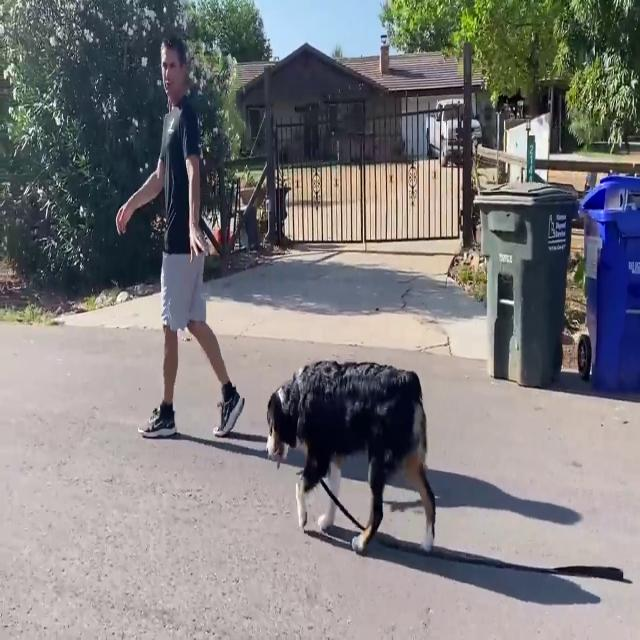Unleashed_Dog: (163, 252, 436, 558)
